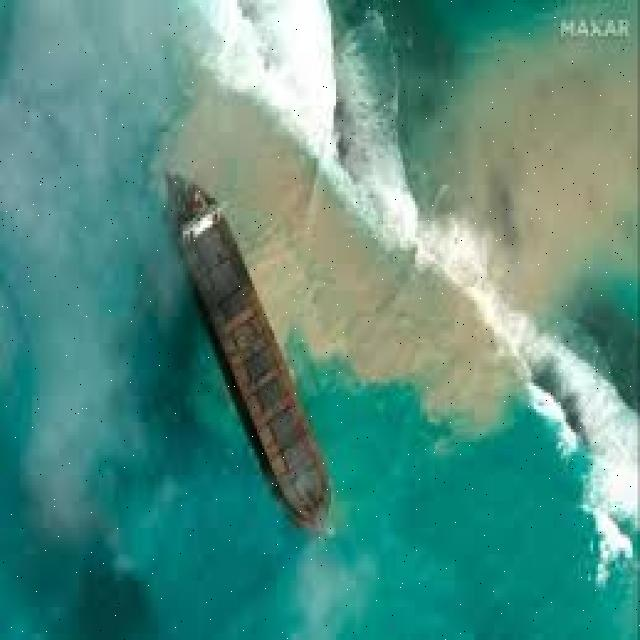truecolor: (173, 76, 521, 437), (450, 53, 640, 305)
